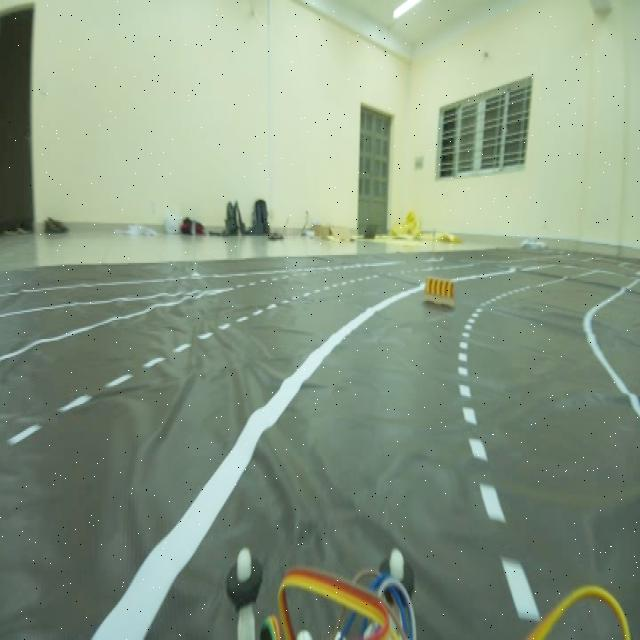roadblock: (418, 272, 462, 309)
